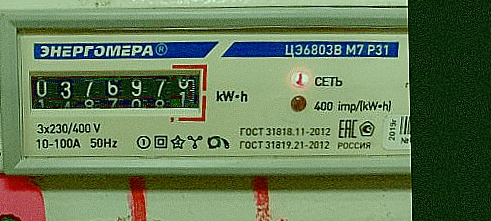0: (34, 77, 48, 97)
1: (176, 89, 188, 107)
3: (58, 78, 72, 99)
6: (105, 74, 119, 96)
7: (153, 75, 166, 98), (81, 76, 95, 97)
9: (129, 76, 142, 97)
screen: (21, 58, 212, 125)
